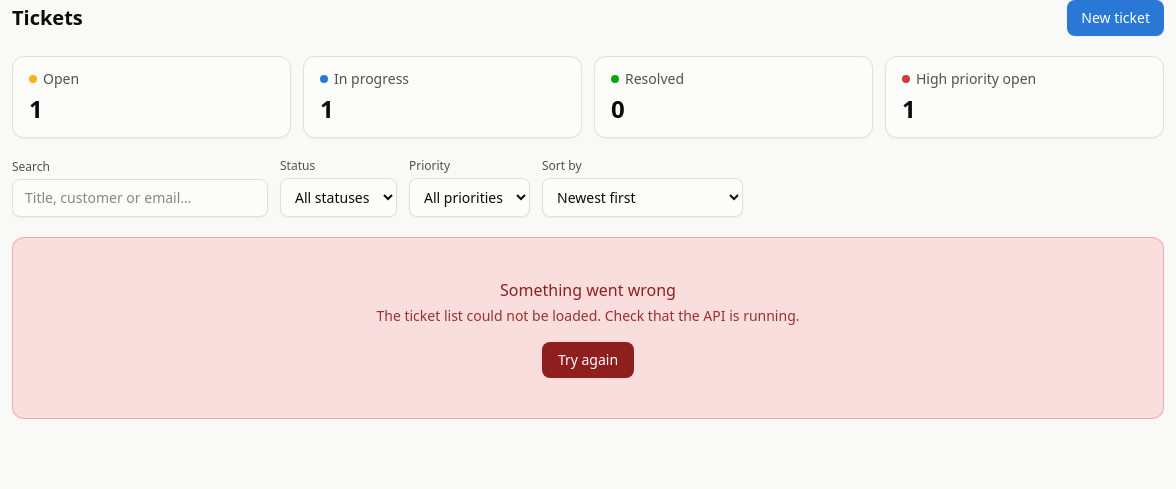
Test case: TicketListPage › shows the error state and recovers on retry
Expected: the message shows "could not be loaded", [376, 306, 800, 325]
Click the button "Try again". click: [588, 360]
box: [542, 342, 634, 378]
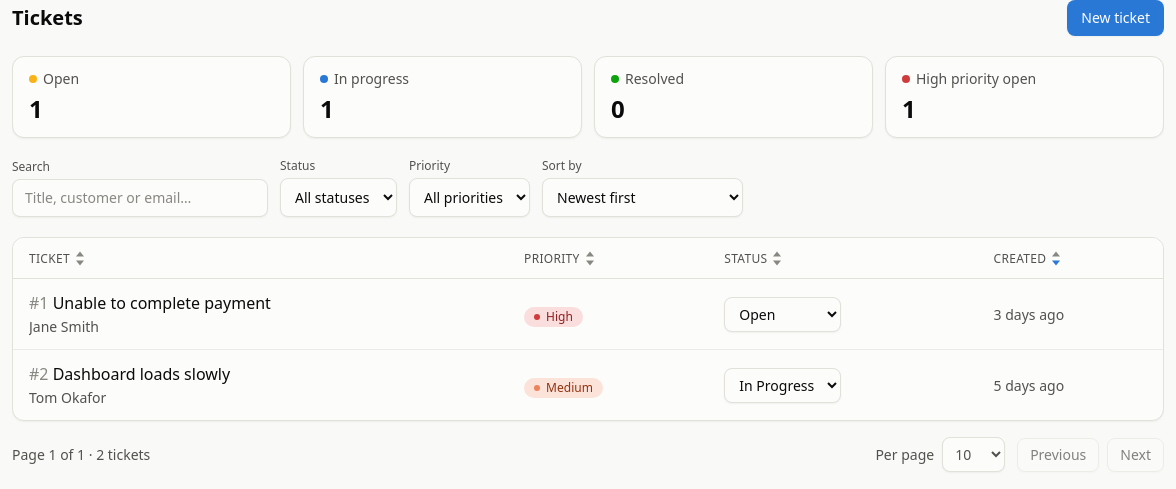
Expected: the table is shown, [13, 238, 1163, 420]
